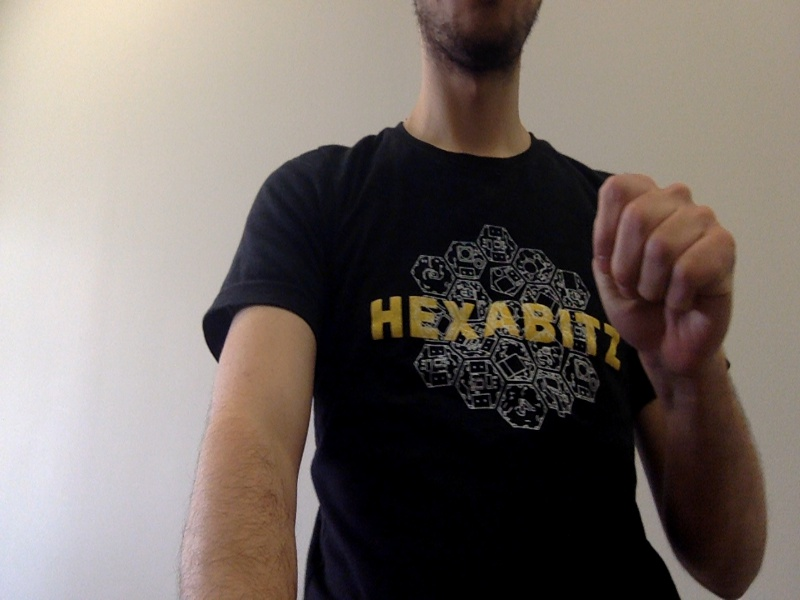0-hand: (596, 174, 736, 369)
